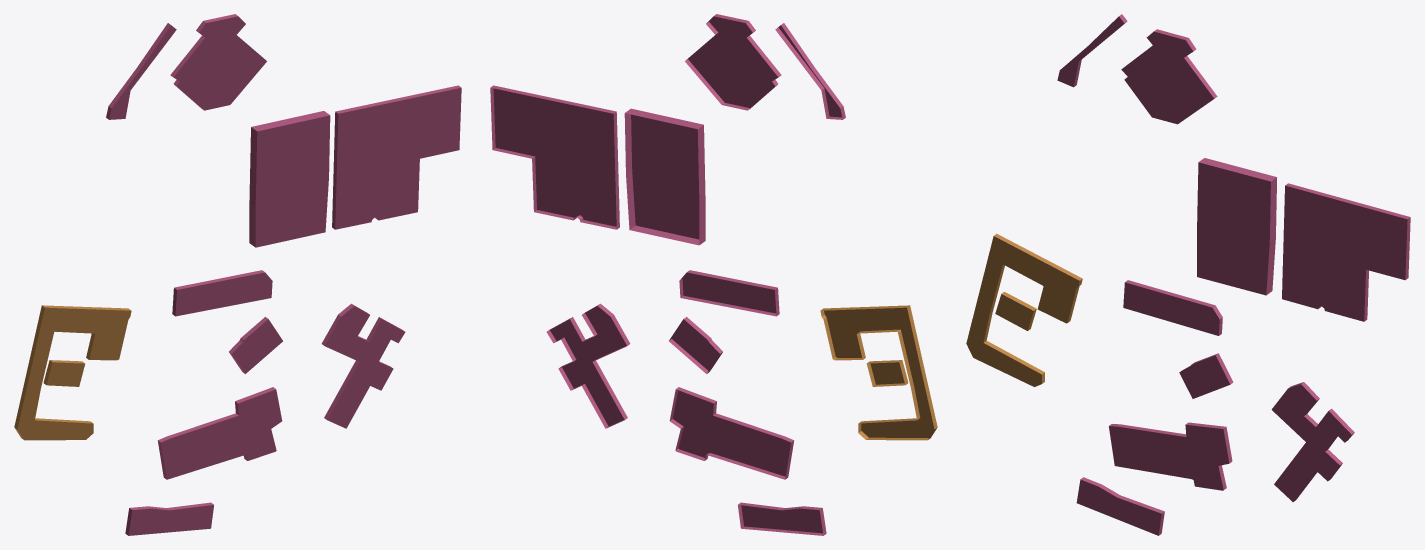
Rendered from buildings_k22.obj.
3 renders of one model, left to right at view 1: azimuth 30°, elevation 25°; view 2: azimuth 150°, elevation 25°; view 3: azimuth 330°, elevation 25°, orthographic.
Parts seen in each view (by area): view 1: roof1, roof2, zone1, zone2; view 2: roof1, zone1, roof2, zone2; view 3: roof1, roof2, zone1, zone2.
Part boxes in pixels (x1,y1,x2,y2): roof1: (109,16,461,535); roof2: (17,307,131,440); zone1: (106,14,461,535); zone2: (14,305,130,439); roof1: (493,16,841,533); zone1: (490,14,845,535); roof2: (824,307,934,437); zone2: (820,305,937,440); roof1: (1057,16,1407,535); roof2: (966,236,1079,386); zone1: (1074,14,1410,535); zone2: (983,233,1082,383).
Bounding box in the file's own units: 351 × 388 × 8.5.
